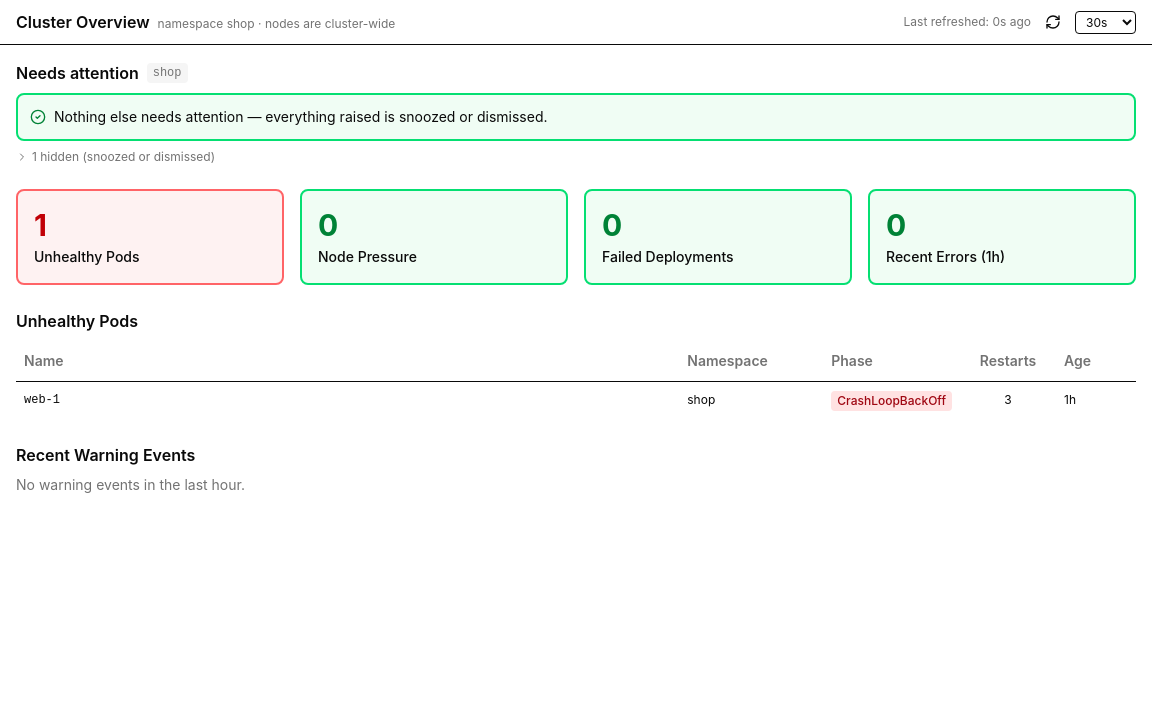
Test: OverviewView › restoring brings the row back
What coordinates should you click on to do the following:
click the button "1 hidden (snoozed or dismissed)"
I would click on:
 (116, 157)
Its box is [16, 149, 215, 165].
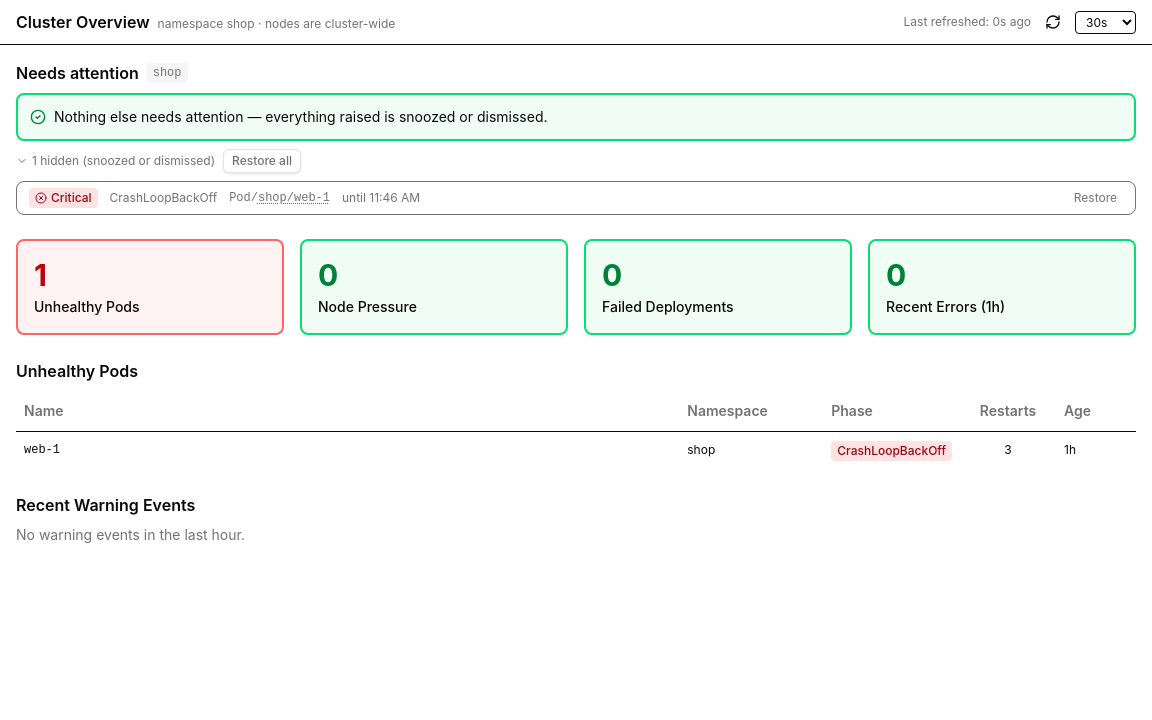
What coordinates should you click on to do the following:
click the button "Restore"
I would click on:
 (1095, 198)
Its box is [1068, 188, 1123, 208].
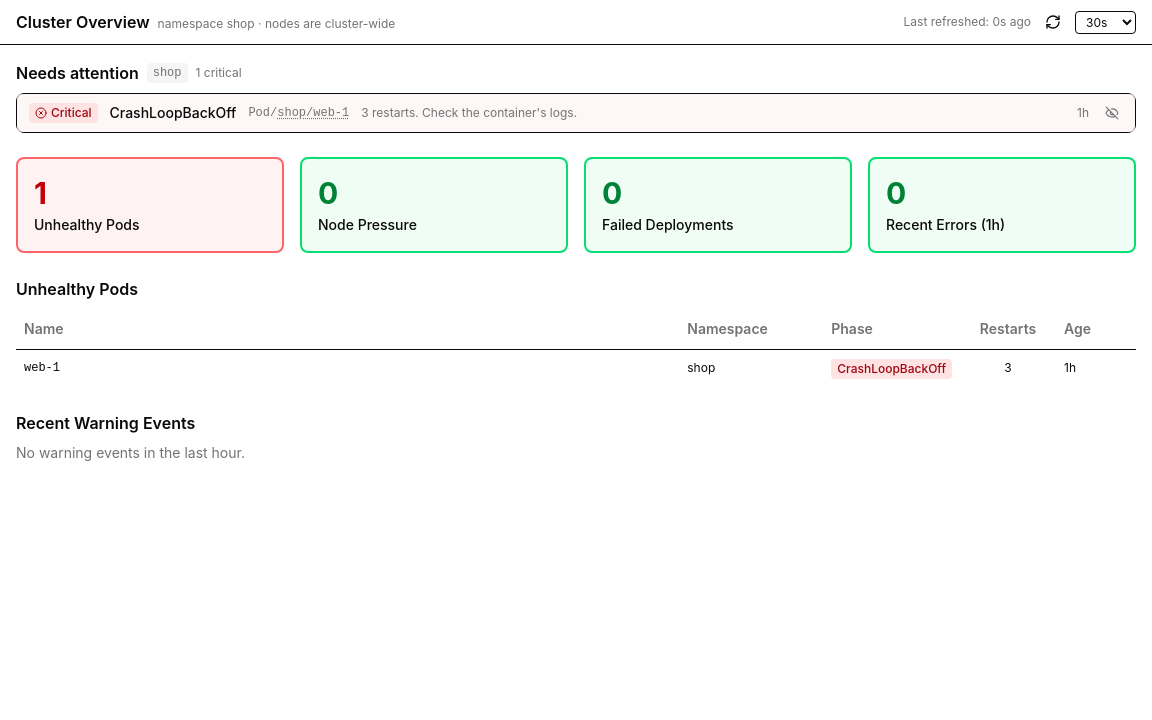
Expected: the button named "Snooze or dismiss CrashLoopBackOff on web-1" is shown, [1101, 102, 1123, 124]
